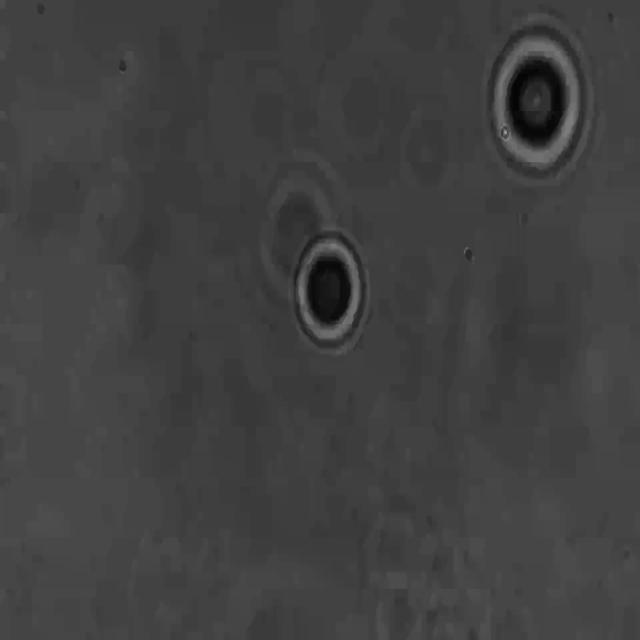DCELL: (286, 218, 375, 358)
LCELL: (475, 19, 598, 199)
